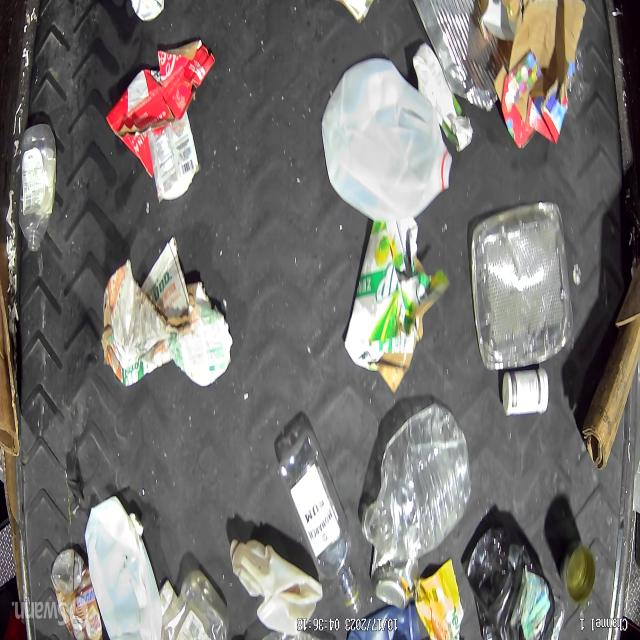can: (409, 0, 510, 114), (370, 549, 420, 610), (561, 541, 596, 602)
milk_jug: (321, 58, 451, 222), (83, 497, 164, 639), (228, 536, 324, 636)
plastic_bottle: (359, 403, 472, 557), (279, 427, 362, 615)
